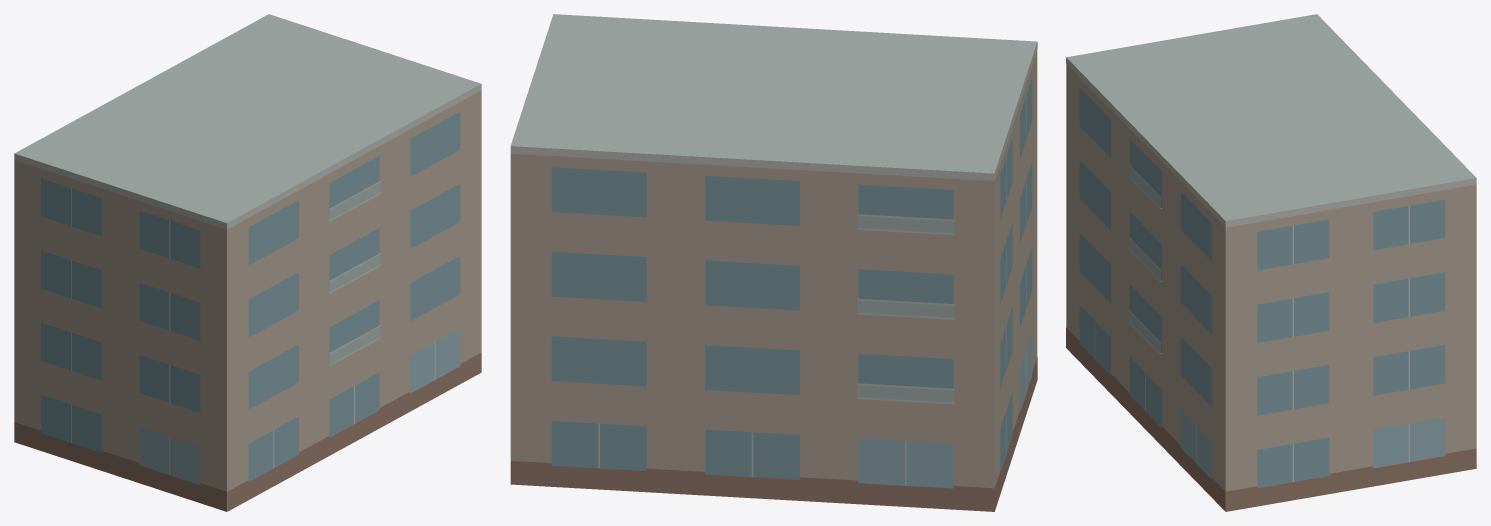
The model's file is survey-upis-32684179.glb.
3 views of the same model, side by side, from view 1: azimuth 30°, elevation 25°; view 2: azimuth 150°, elevation 25°; view 3: azimuth 270°, elevation 25° (orthographic). The views are drawn at different scales.
Parts seen in each view (by area): view 1: survey-upis-32684179.tmp; view 2: survey-upis-32684179.tmp; view 3: survey-upis-32684179.tmp.
Boxes of the visible parts, x1,y1,x2,y2 form: survey-upis-32684179.tmp: (14,14,481,511); survey-upis-32684179.tmp: (510,14,1037,511); survey-upis-32684179.tmp: (1066,14,1476,511).
Size of the model in its own units: 16.68 by 10.9 by 13.96.
